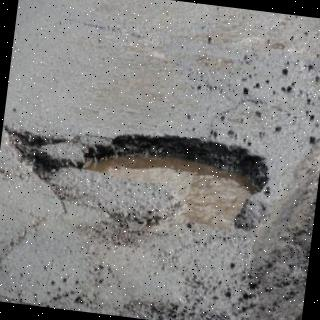pothole: (4, 126, 276, 241)
